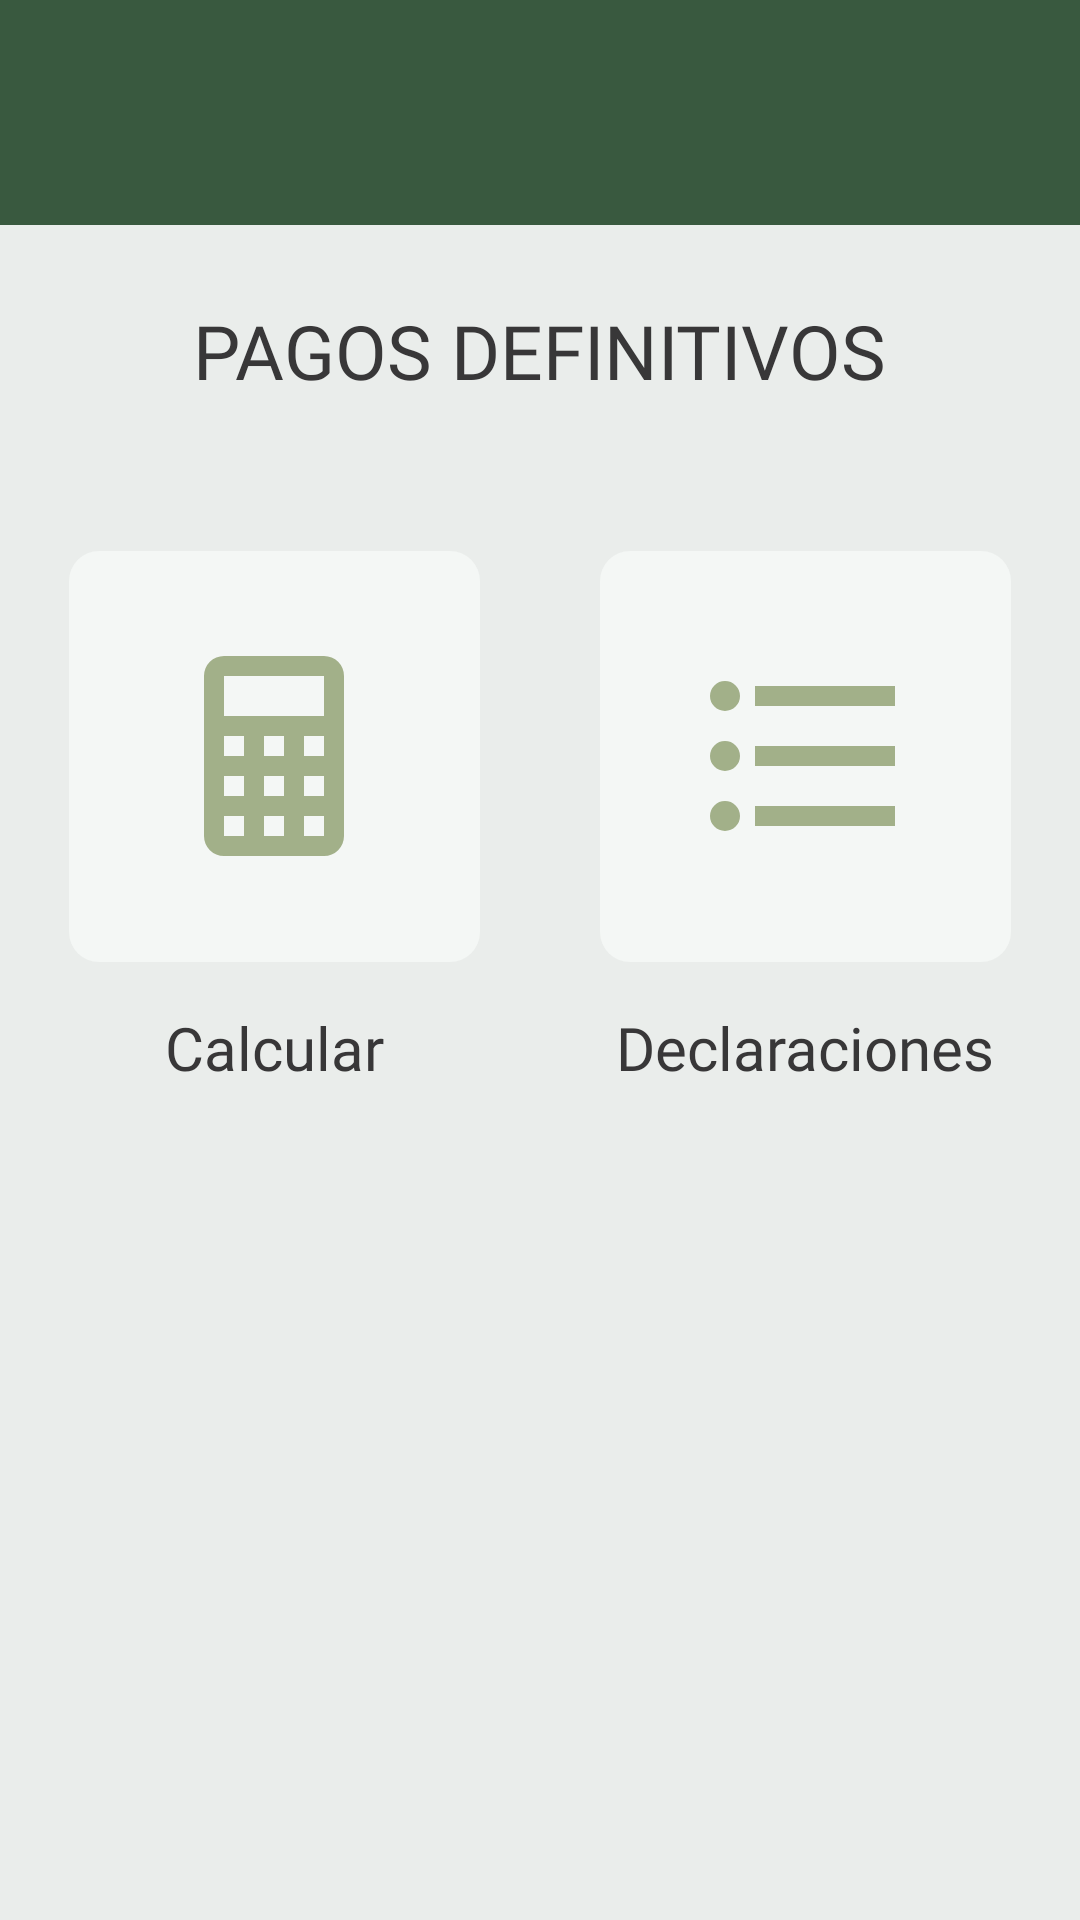

Locate icon controls on the screen. Image size 1080px x 1920px, boxes as {"left": x1, "top": y1, "right": x2, "bottom": y2}.
calculator: {"left": 204, "top": 656, "right": 344, "bottom": 856}
format list bulleted: {"left": 710, "top": 681, "right": 895, "bottom": 831}
